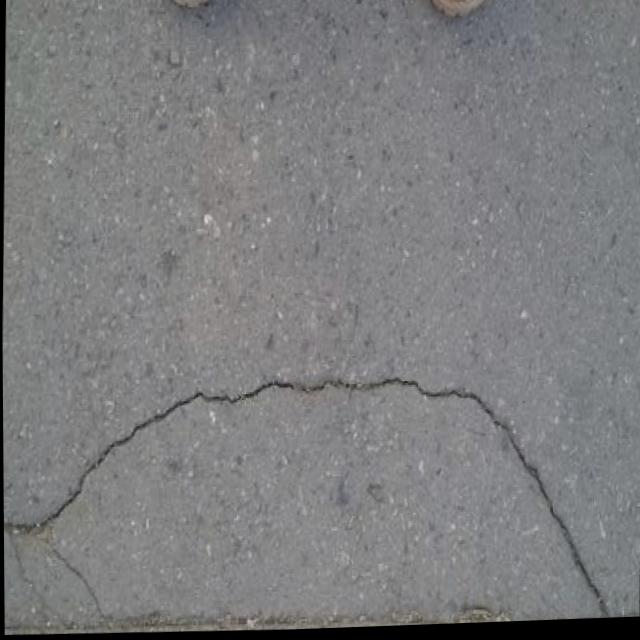Crack: (131, 294, 467, 494), (463, 351, 640, 627), (2, 412, 133, 630)
